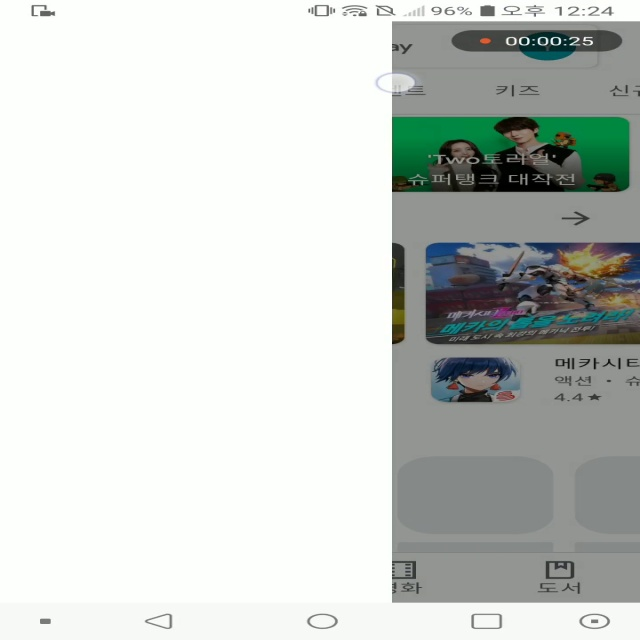Cursor: (375, 72, 419, 95)
